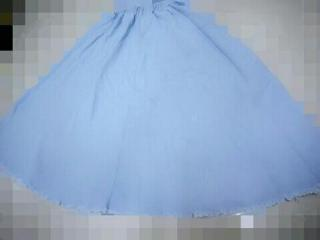skirt: (1, 0, 319, 218)
